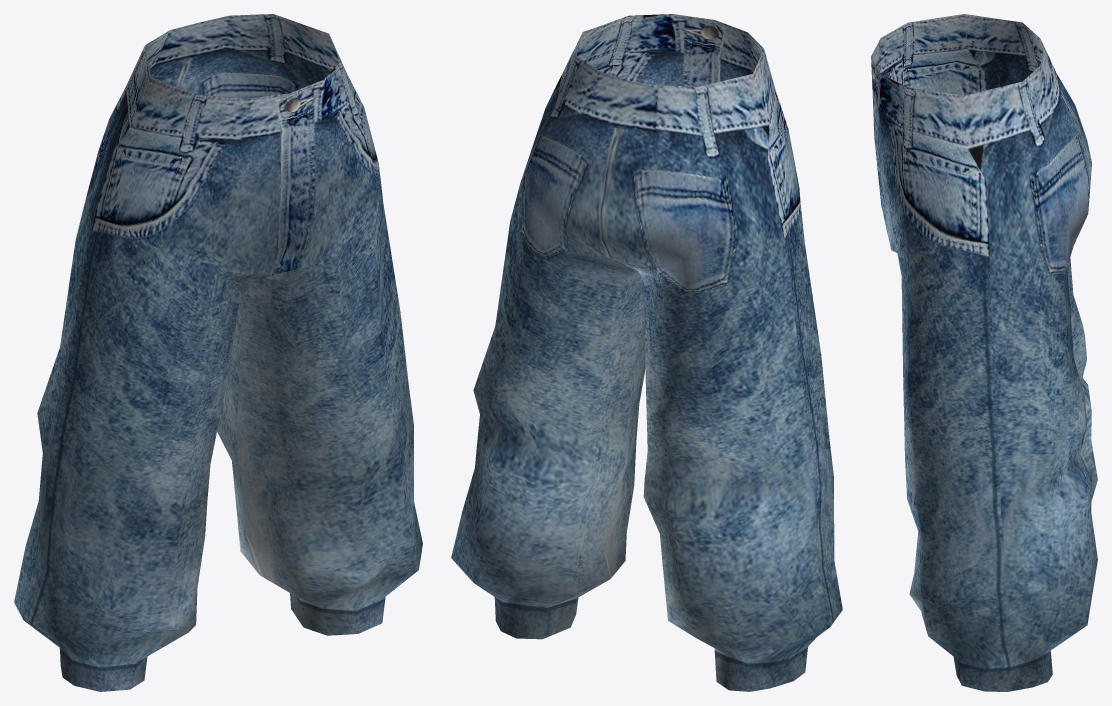
Rendered from pant.glb.
3 views of the same model, side by side, from view 1: azimuth 30°, elevation 25°; view 2: azimuth 150°, elevation 25°; view 3: azimuth 270°, elevation 25° (orthographic). The views are drawn at different scales.
Parts seen in each view (by area): view 1: pant; view 2: pant; view 3: pant.
Part boxes in pixels (bbox=[...]): pant: bbox=[14, 14, 422, 691]; pant: bbox=[451, 14, 842, 691]; pant: bbox=[871, 14, 1097, 691].
Size of the model in its own units: 0.0172 by 0.026 by 0.00931.
1 material, 1 textured.
